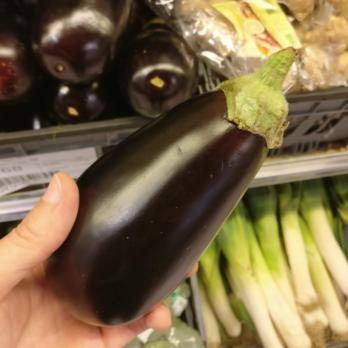Brinjal: (49, 43, 293, 324)
